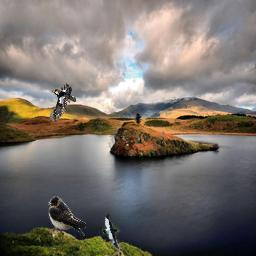Swallow: (48, 196, 86, 236)
Woodpecker: (49, 83, 76, 123), (102, 212, 122, 252)
